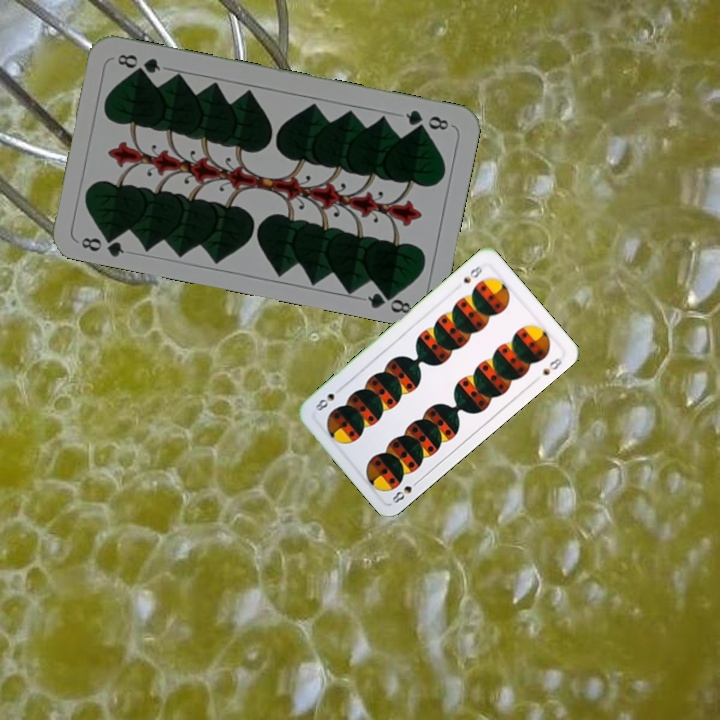G8: (77, 229, 127, 260), (401, 106, 452, 133)
S8: (388, 475, 423, 506), (459, 261, 485, 286)
